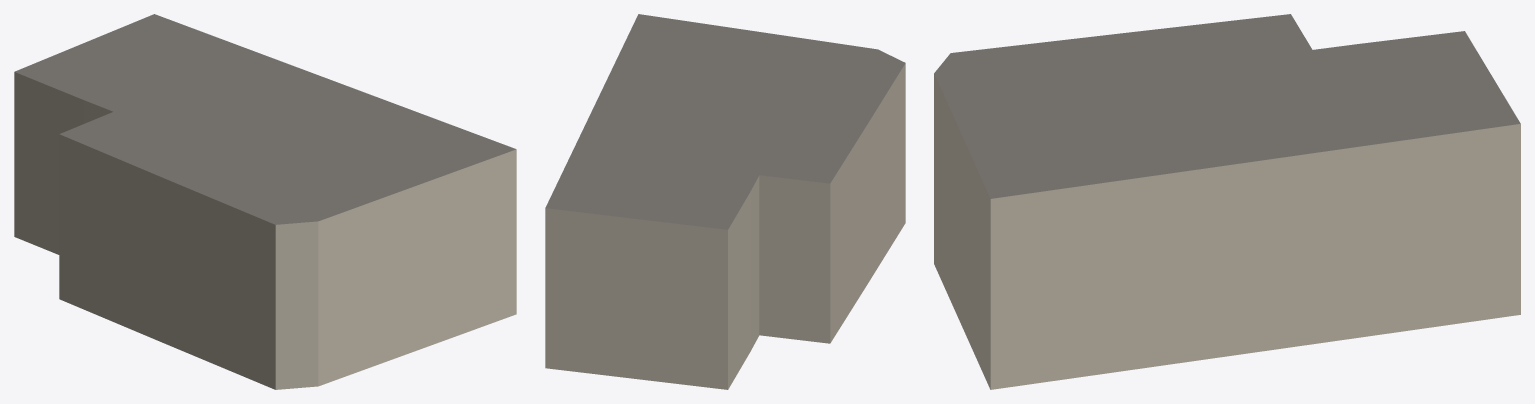
The picture shows the model from 3 angles, left to right: view 1: azimuth 30°, elevation 25°; view 2: azimuth 150°, elevation 25°; view 3: azimuth 270°, elevation 25°; orthographic projection. The views are drawn at different scales.
Visible parts, largest first — view 1: HP-w1196661447; view 2: HP-w1196661447; view 3: HP-w1196661447.
Part boxes in pixels (<box>): HP-w1196661447: <box>14,14,516,389</box>; HP-w1196661447: <box>545,14,905,389</box>; HP-w1196661447: <box>934,14,1520,389</box>.
Size of the model in its own units: 37.38 by 18 by 50.1.
